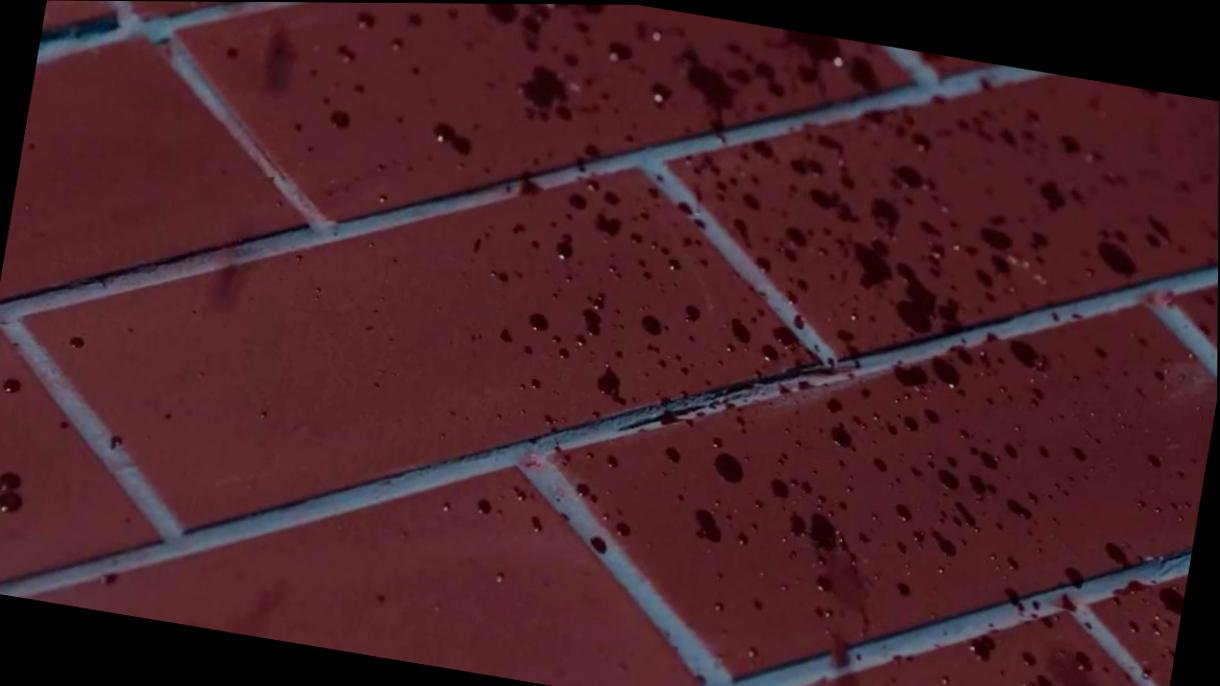Fire: (188, 2, 1219, 686), (0, 470, 22, 510), (66, 329, 94, 350), (0, 375, 24, 397), (109, 431, 125, 451), (58, 414, 72, 432), (123, 320, 137, 336), (105, 574, 117, 584)
